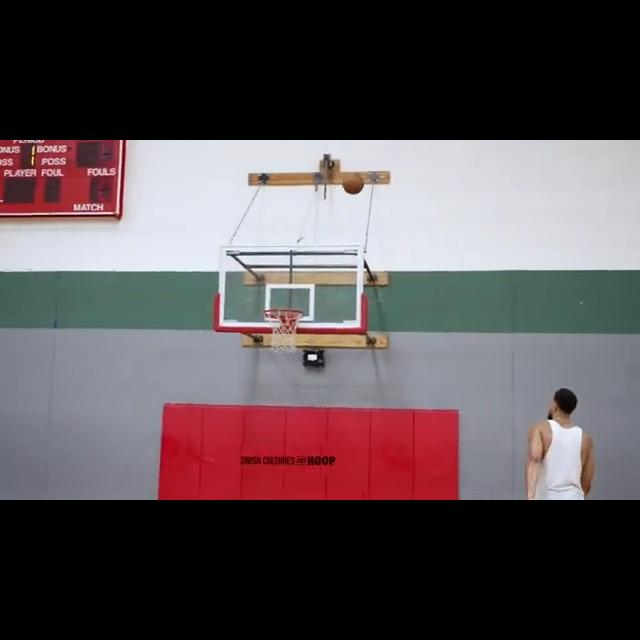basketball: (343, 172, 364, 195)
hoop: (264, 308, 304, 355)
person: (523, 382, 598, 500)
